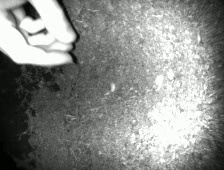corn: (152, 72, 167, 87), (108, 81, 118, 94)
